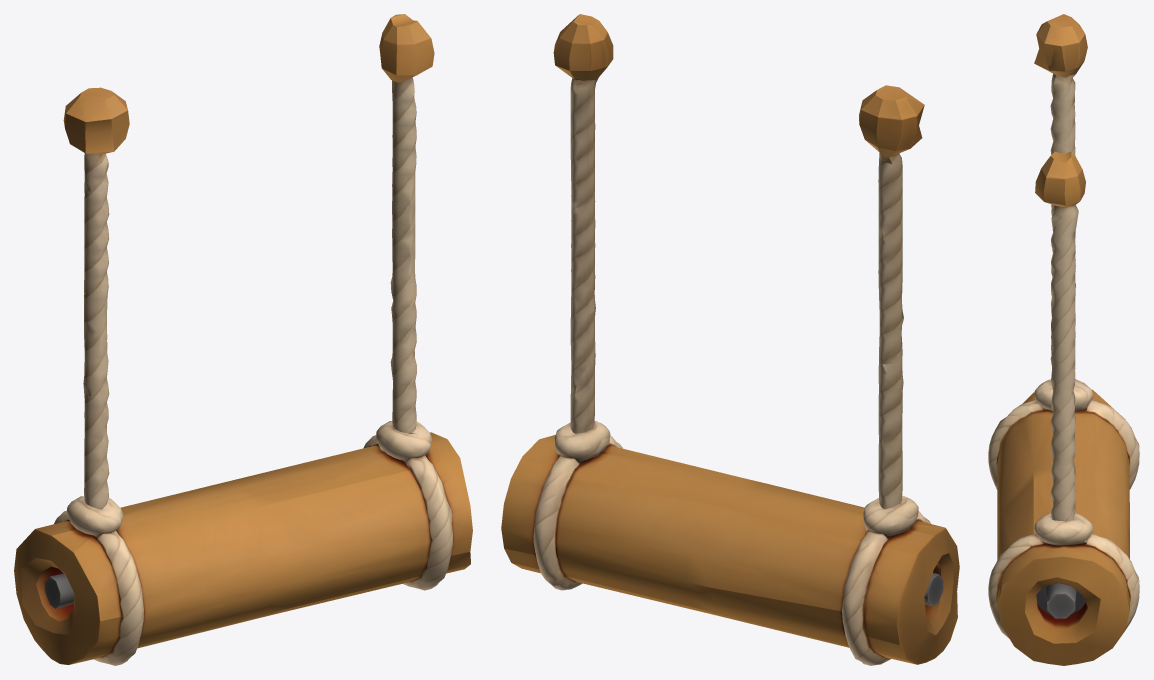
File: base_basic_pbr.fbx
3 renders of one model, left to right at view 1: azimuth 30°, elevation 25°; view 2: azimuth 150°, elevation 25°; view 3: azimuth 270°, elevation 25°, orthographic. The views are drawn at different scales.
Parts seen in each view (by area): view 1: model; view 2: model; view 3: model.
Boxes of the visible parts, x1,y1,x2,y2 form: model: [14, 14, 472, 665]; model: [501, 14, 959, 665]; model: [988, 14, 1139, 665].
Size of the model in its own units: 137 by 176 by 48.25.
1 material, 1 textured.
